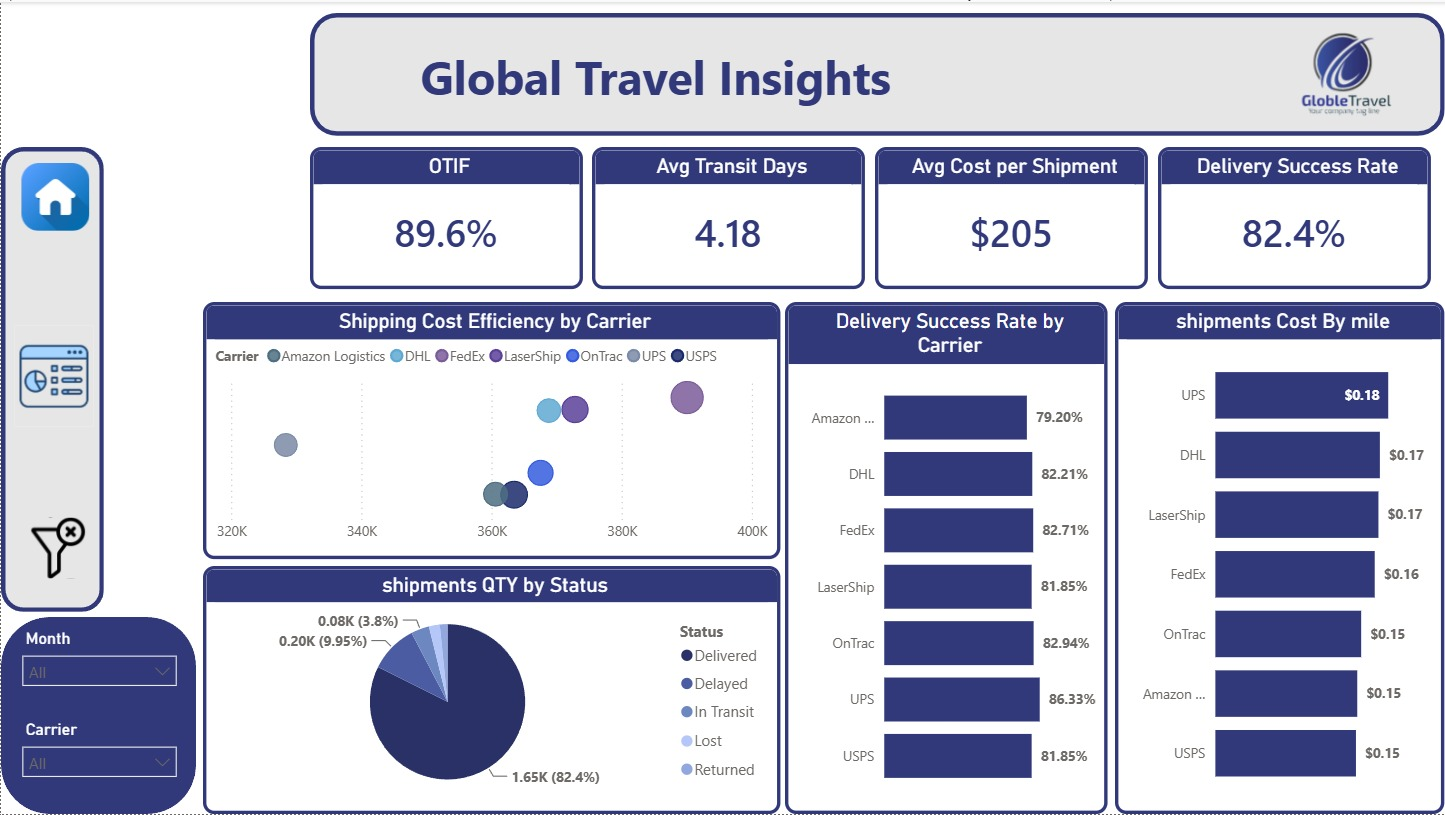

What the dashboard file says about the page in this screenshot:
{"tool":"powerbi","page":{"name":"Dashbord","canvas":[1280,720],"ordinal":0},"visuals":[{"type":"shape","box":[273.7,9.6,1006.3,108.9],"z":0},{"type":"shape","box":[0,128.6,91.3,412.3],"z":1000},{"type":"actionButton","box":[318.1,33.7,524.3,61.7],"z":2000},{"type":"actionButton","box":[1128.7,0,151.3,128.2],"z":3000},{"type":"cardVisual","title":"OTIF","fields":{"Data":["measures (2).OTIF"]},"box":[273.7,128.2,241.9,126.3],"z":4000},{"type":"cardVisual","title":"Avg Transit Days","fields":{"Data":["measures (2).Avg Transit Days"]},"box":[524.3,128.2,241.9,126.3],"z":5000},{"type":"cardVisual","title":"Avg Cost per Shipment","fields":{"Data":["measures (2).Avg Cost per Shipment"]},"box":[774.9,128.2,241.9,126.3],"z":6000},{"type":"cardVisual","title":"Delivery Success Rate","fields":{"Data":["measures (2).Delivery Success Rate"]},"box":[1025.5,128.2,241.9,126.3],"z":7000},{"type":"pieChart","fields":{"Category":["logistics_shipments_dataset (3).Status"],"Y":["measures (2).shipments QTY"]},"box":[179.1,500.1,511.6,219.9],"z":8000},{"type":"barChart","title":"shipments Cost By mile","fields":{"Y":["measures (2).Cost Efficiency Index"],"Category":["logistics_shipments_dataset (3).Carrier"]},"box":[988,266,292,454],"z":9000},{"type":"scatterChart","title":"Shipping Cost Efficiency by Carrier","fields":{"Y":["Sum(logistics_shipments_dataset (3).Cost)"],"X":["Sum(logistics_shipments_dataset (3).Distance_miles)"],"Size":["Sum(logistics_shipments_dataset (3).Weight_kg)"],"Series":["logistics_shipments_dataset (3).Carrier"]},"box":[179.1,266,511.6,227.9],"z":10000},{"type":"actionButton","box":[19.9,453.2,67.6,62.3],"z":12000},{"type":"shape","box":[0,545.3,172.9,174.7],"z":13000},{"type":"group","id":"g1","title":"Group 1","box":[8.9,551.5,156.9,147.2],"z":14000},{"type":"actionButton","title":"1","box":[14.2,134.8,68.3,75.4],"z":15000},{"type":"slicer","fields":{"Values":["logistics_shipments_dataset (3).Delivery_Date.Variation.Date Hierarchy.Month"]},"box":[8.9,551.5,156.9,66.4],"z":15000,"group":"g1"},{"type":"actionButton","title":"1","box":[11.5,286.4,70.9,90.4],"z":16000},{"type":"slicer","fields":{"Values":["logistics_shipments_dataset (3).Carrier"]},"box":[8.9,632.3,156.9,66.4],"z":16000,"group":"g1"},{"type":"barChart","fields":{"Category":["logistics_shipments_dataset (3).Carrier"],"Y":["measures (2).Delivery Success Rate"]},"box":[695.2,266,292.6,454],"z":17000}]}

Visuals, with their boxes in screenshot pixels (x1, y1, x2, y2):
shape: box(312, 11, 1433, 132)
shape: box(8, 143, 109, 602)
actionButton: box(362, 38, 945, 106)
actionButton: box(1264, 0, 1433, 143)
"OTIF" cardVisual: box(312, 143, 582, 283)
"Avg Transit Days" cardVisual: box(591, 143, 861, 283)
"Avg Cost per Shipment" cardVisual: box(870, 143, 1140, 283)
"Delivery Success Rate" cardVisual: box(1149, 143, 1419, 283)
pieChart - logistics_shipments_dataset (3).Status x measures (2).shipments QTY: box(207, 557, 776, 802)
"shipments Cost By mile" barChart: box(1107, 296, 1433, 802)
"Shipping Cost Efficiency by Carrier" scatterChart: box(207, 296, 776, 550)
actionButton: box(30, 505, 105, 574)
shape: box(8, 607, 200, 802)
"Group 1" group: box(17, 614, 192, 778)
"1" actionButton: box(23, 150, 99, 234)
slicer - logistics_shipments_dataset (3).Delivery_Date.Variation.Date Hierarchy.Month: box(17, 614, 192, 688)
"1" actionButton: box(20, 319, 99, 419)
slicer - logistics_shipments_dataset (3).Carrier: box(17, 704, 192, 778)
barChart - logistics_shipments_dataset (3).Carrier x measures (2).Delivery Success Rate: box(781, 296, 1107, 802)
